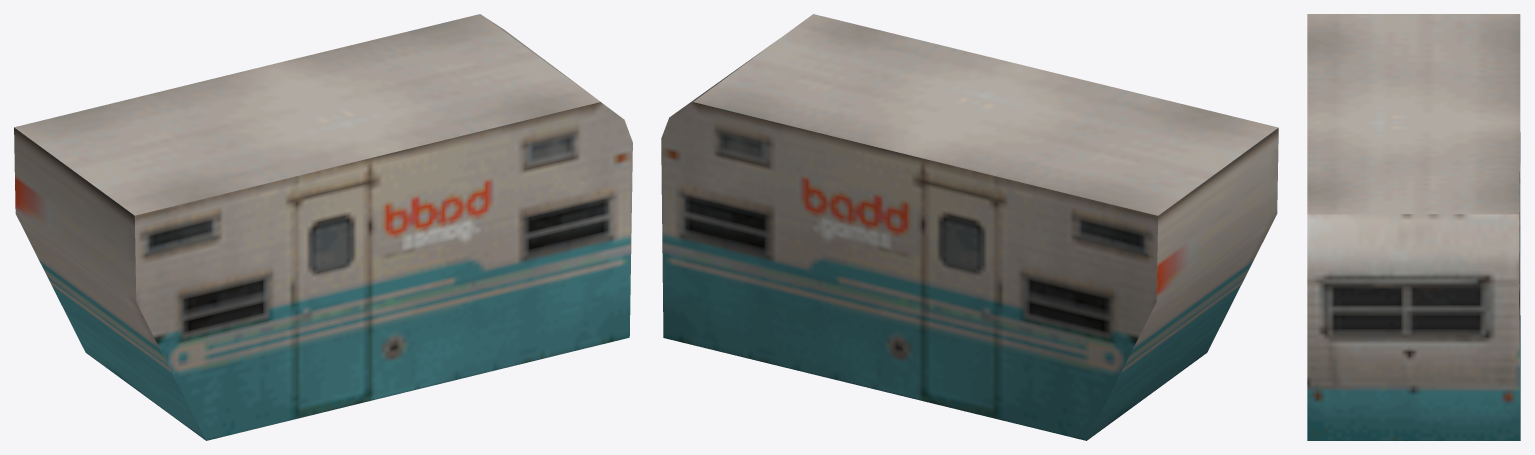
The model's file is trailer01.glb.
3 renders of one model, left to right at view 1: azimuth 30°, elevation 25°; view 2: azimuth 150°, elevation 25°; view 3: azimuth 270°, elevation 25°, orthographic. The views are drawn at different scales.
Visible parts, largest first — view 1: trailer01_elements_0; view 2: trailer01_elements_0; view 3: trailer01_elements_0.
Boxes of the visible parts, x1,y1,x2,y2 form: trailer01_elements_0: (14,14,632,440); trailer01_elements_0: (661,14,1278,440); trailer01_elements_0: (1307,14,1520,440).
Bounding box in the file's own units: 5.52 × 2.57 × 2.32.
Materials: 1 (1 with a texture image).
